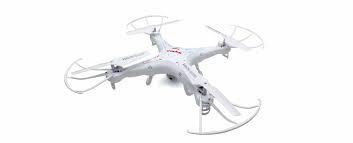Drone: (40, 9, 289, 139)
